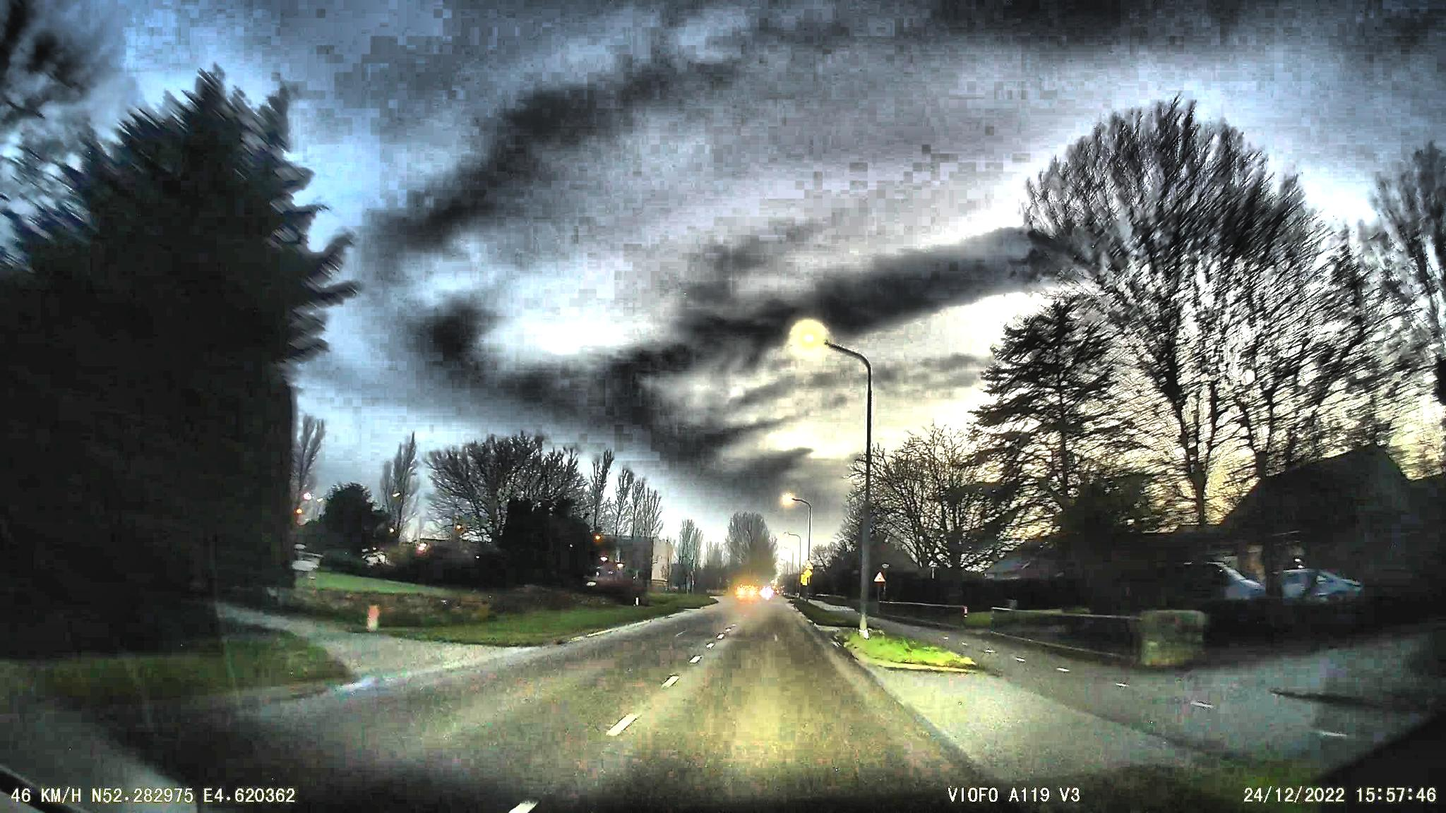Roads: (205, 598, 1178, 806)
